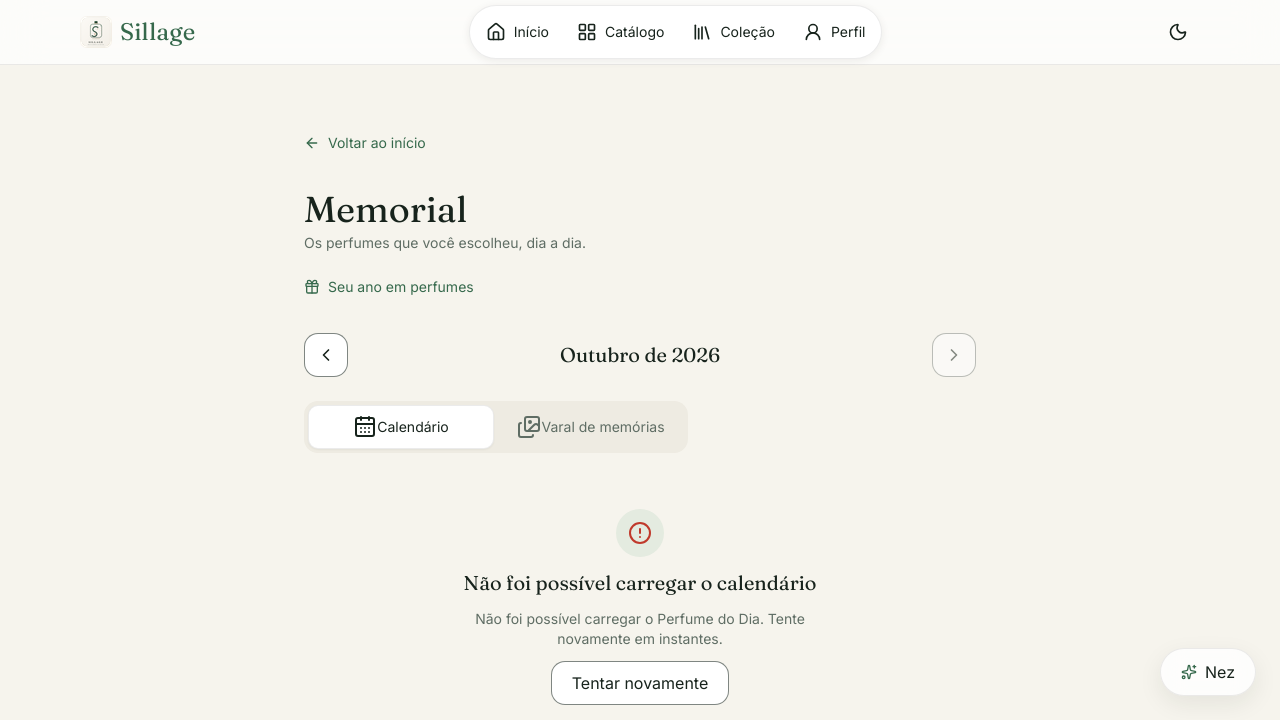
Scenario: MemorialPage (Fase 19) › falha mostra a mensagem amigável e tenta de novo
expect the text "Não foi possível carregar o Perfume do Dia. Tente novamente em instantes." is shown: met, box left=448, top=609, right=832, bottom=649
expect the heading "Não foi possível carregar o calendário" is shown: met, box left=464, top=569, right=816, bottom=597
Step 1. Click the button "Tentar novamente" → (640, 683), box left=551, top=661, right=729, bottom=705
(page scrolled)
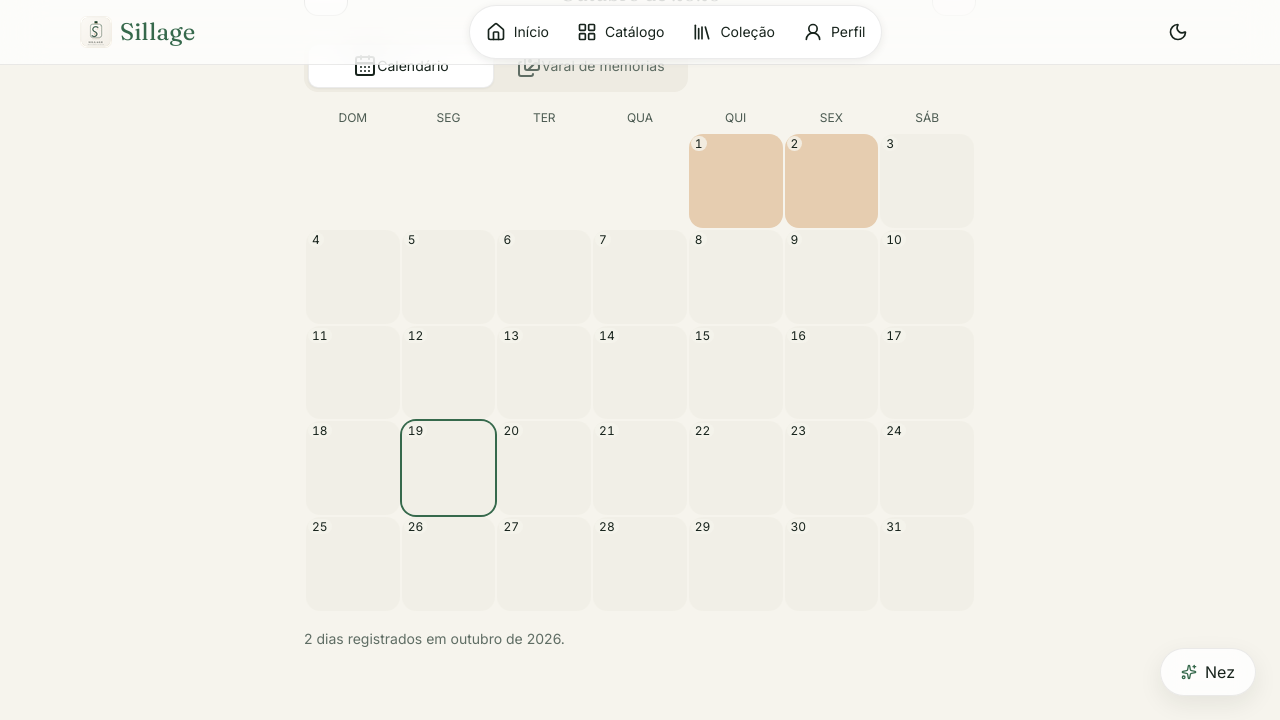
expect the table is shown: met, box left=304, top=108, right=976, bottom=613
